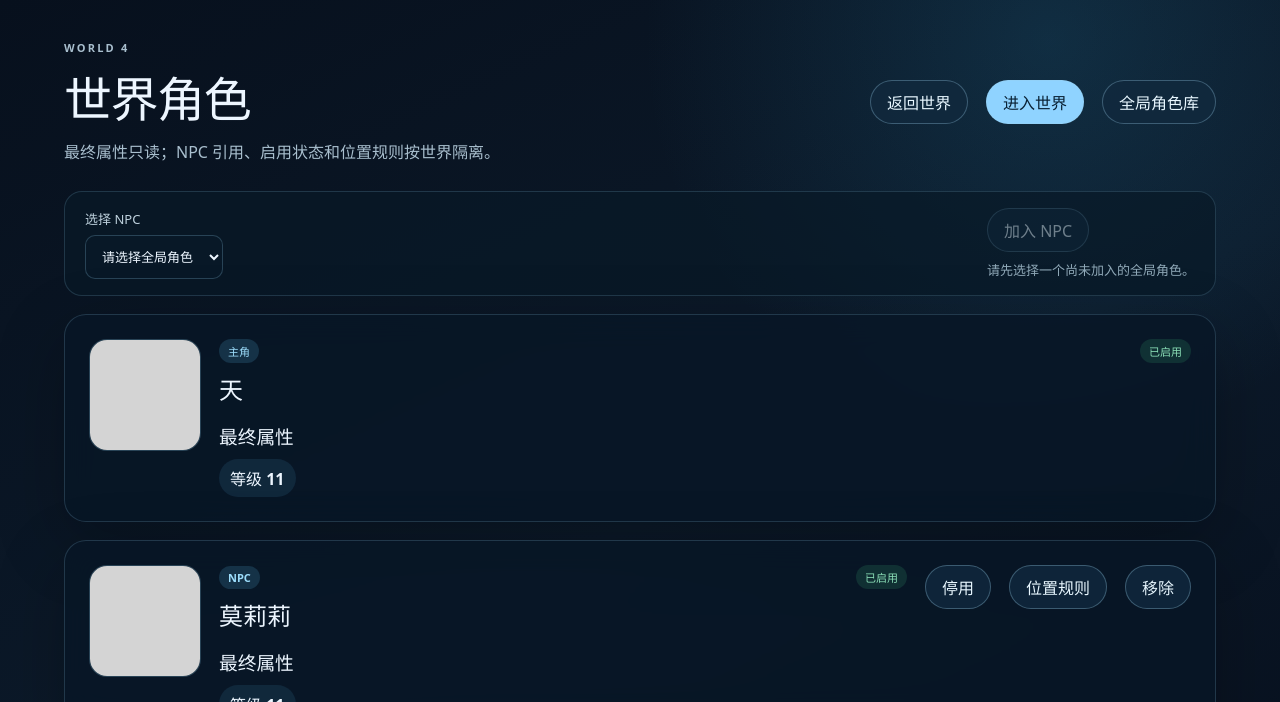
Scenario: WorldRolesPage › confirms NPC removal and can toggle its enabled state
Click the button with aria-label "停用 NPC 莫莉莉" at (958, 587), box x1=925 y1=565 x2=991 y2=609
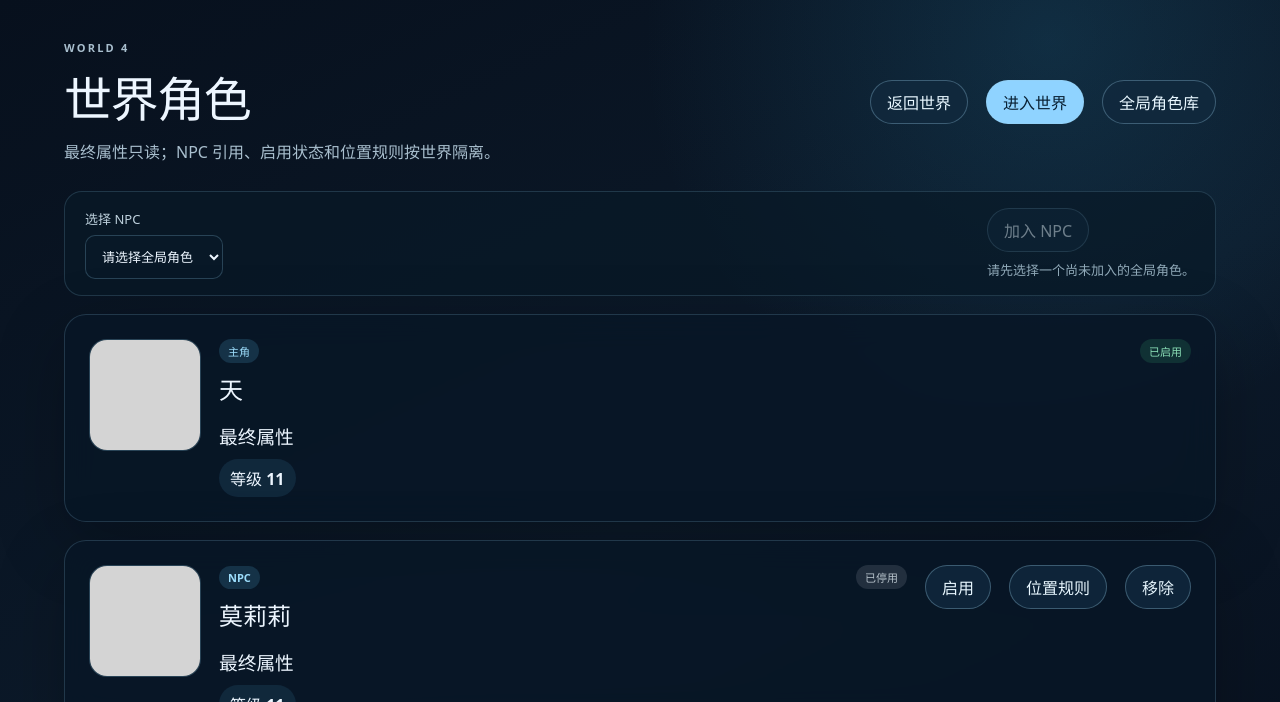
expect the text "已停用" is shown: met, box x1=856 y1=565 x2=907 y2=589
Click the button with aria-label "移除 NPC 莫莉莉" at (1158, 587), box x1=1125 y1=565 x2=1191 y2=609
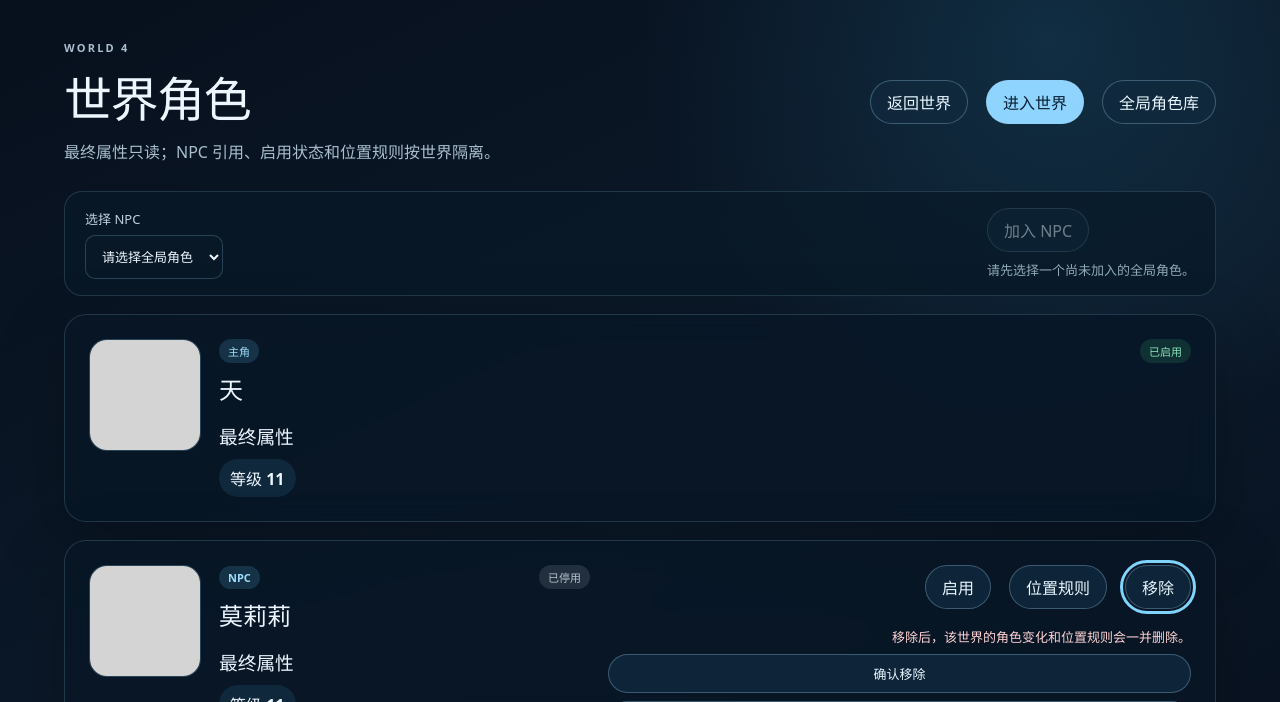
expect the text "移除后，该世界的角色变化和位置规则会一并删除。" is shown: met, box x1=892 y1=628 x2=1191 y2=646
Click the button with aria-label "确认移除 莫莉莉" at (899, 674), box x1=608 y1=654 x2=1191 y2=693
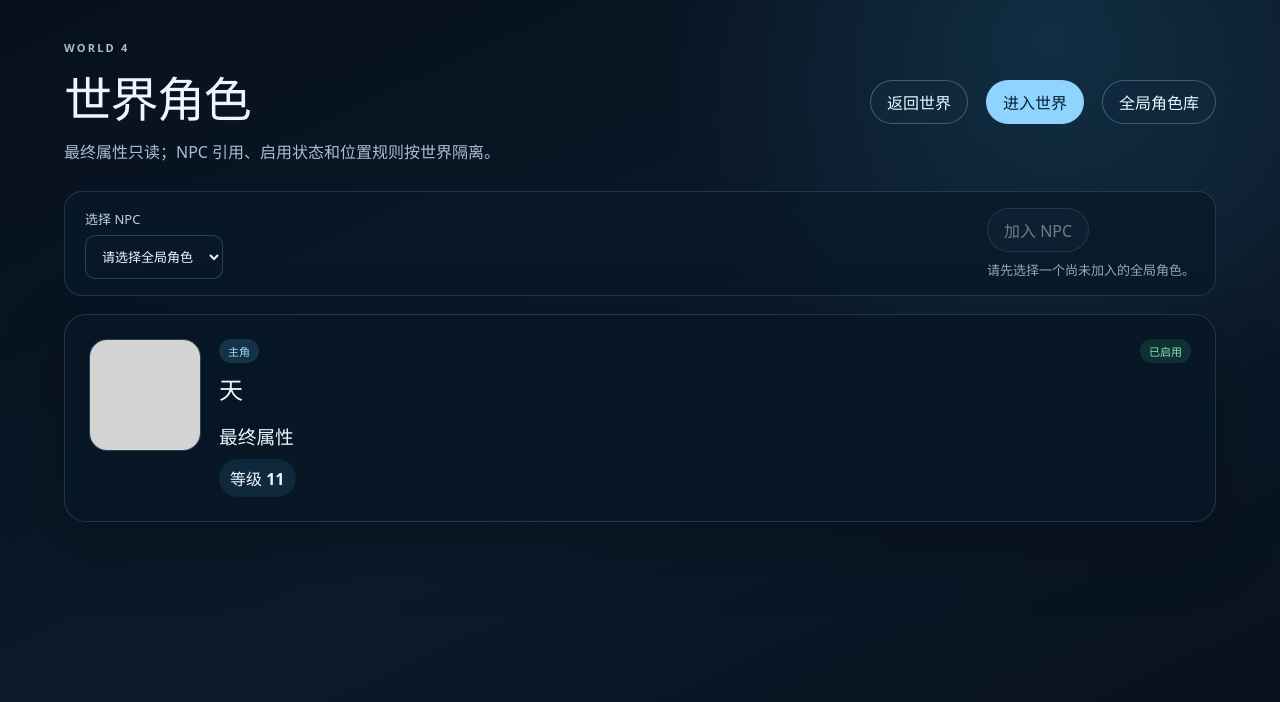
expect the heading "莫莉莉" is gone: met
